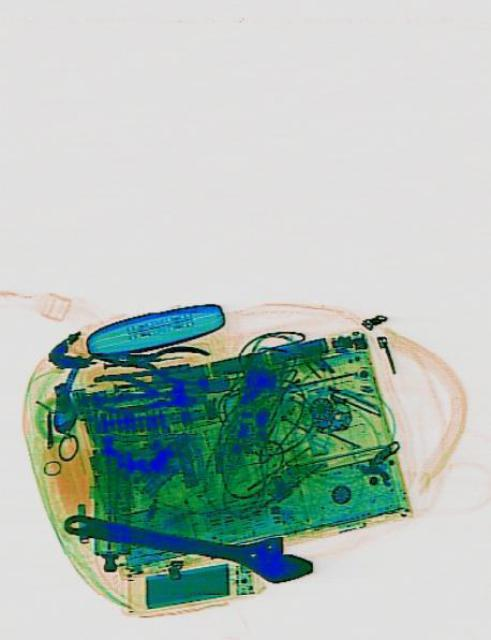Pliers: (86, 334, 210, 384), (86, 370, 193, 420)
Wrench: (58, 498, 315, 588)
